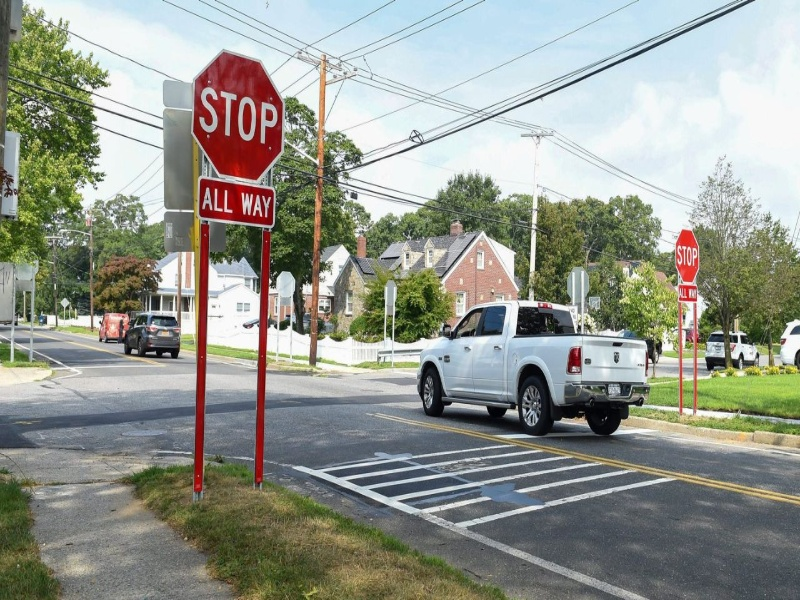stopsign: (188, 41, 295, 185)
